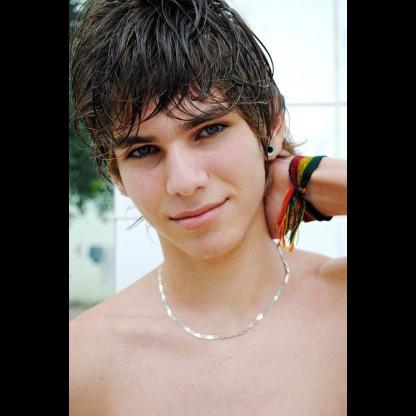Male: (107, 79, 285, 261)
